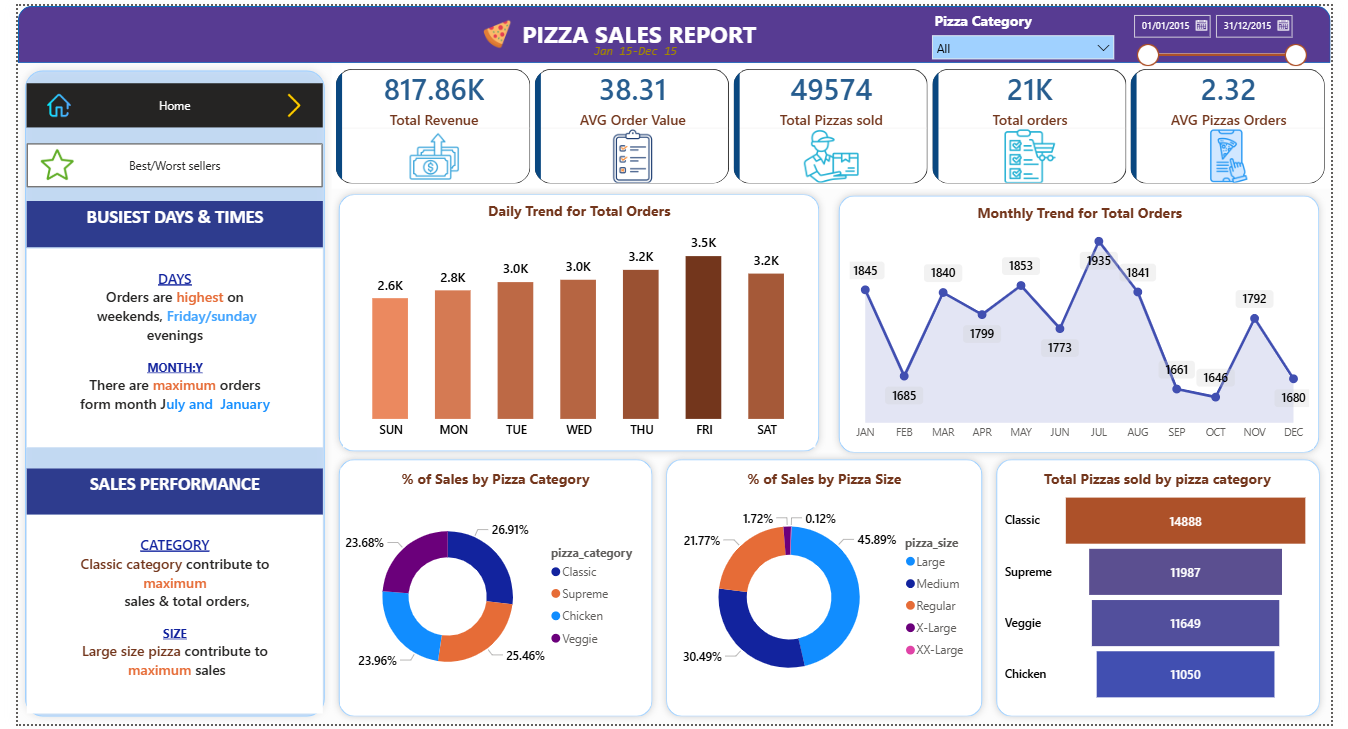

Layout of this report page (visuals, bound fields, positions):
{"tool":"powerbi","page":{"name":"Home","canvas":[1500,820],"ordinal":0},"visuals":[{"type":"shape","box":[0,65.7,358.6,754.3],"z":0},{"type":"cardVisual","fields":{"Data":["pizza_sales.Total Revenue","pizza_sales.AVG Order Value","pizza_sales.Total Pizzas sold","pizza_sales.Total orders","pizza_sales.AVG Pizzas Orders"]},"box":[358.6,67.1,1141.4,141.4],"z":1000},{"type":"shape","box":[0,0,1500,65],"z":2000},{"type":"textbox","box":[565,8.8,288.8,47.5],"z":3000},{"type":"textbox","box":[652.5,37.5,115,36.2],"z":4000},{"type":"image","box":[530,16.2,35,32.5],"z":5000},{"type":"shape","box":[358.8,207.5,565,310],"z":6000},{"type":"columnChart","title":"Daily Trend for Total Orders","fields":{"Category":["pizza_sales.Order day"],"Y":["pizza_sales.Total orders"]},"box":[371.2,222.5,540,281.2],"z":7000},{"type":"shape","box":[930,208.8,565,310],"z":8000},{"type":"areaChart","title":"Monthly Trend for Total Orders","fields":{"Category":["pizza_sales.Order Month"],"Y":["pizza_sales.Total orders"]},"box":[945,223.8,535,281.2],"z":9000},{"type":"shape","box":[358.6,510,374.3,310],"z":10000},{"type":"shape","box":[732.9,510,377.1,310],"z":11000},{"type":"shape","box":[1110,510,385.7,310],"z":12000},{"type":"donutChart","title":"% of Sales by Pizza Category","fields":{"Category":["pizza_sales.pizza_category"],"Y":["pizza_sales.Total Revenue"]},"box":[368.6,528.6,354.3,271.4],"z":13000},{"type":"donutChart","title":"% of Sales by Pizza Size","fields":{"Y":["pizza_sales.Total Revenue"],"Category":["pizza_sales.pizza_size"]},"box":[744.3,528.6,354.3,272.9],"z":14000},{"type":"funnel","title":"Total Pizzas sold by pizza category","fields":{"Category":["pizza_sales.pizza_category"],"Y":["pizza_sales.Total Pizzas sold"]},"box":[1122.9,528.6,358.6,272.9],"z":15000},{"type":"textbox","box":[10,222.9,338.6,52.9],"z":16000},{"type":"textbox","box":[10,277.1,338.6,227.1],"z":17000},{"type":"textbox","box":[10,528.6,338.6,52.9],"z":18000},{"type":"textbox","box":[10,581.4,338.6,227.1],"z":19000},{"type":"slicer","fields":{"Values":["pizza_sales.pizza_category"]},"box":[1034.3,0,228.6,65.7],"z":20000},{"type":"slicer","fields":{"Values":["pizza_sales.order_date"]},"box":[1262.9,0,218.6,72.9],"z":21000},{"type":"pageNavigator","box":[10,157.1,338.6,50],"z":22000},{"type":"pageNavigator","box":[10,88.6,338.6,50],"z":23000},{"type":"image","box":[22.9,100,48.6,27.1],"z":24000},{"type":"image","box":[295.7,100,40,27.1],"z":25000},{"type":"image","box":[22.9,162.9,44.3,37.1],"z":25001}]}

Visuals, with their boxes in screenshot pixels (x1, y1, x2, y2), scaled from the page's 1500x820 canvas onto the 1348x729 screenshot:
shape: bbox(0, 58, 322, 728)
cardVisual - pizza_sales.Total Revenue x pizza_sales.AVG Order Value: bbox(322, 60, 1347, 185)
shape: bbox(0, 0, 1347, 58)
textbox: bbox(508, 8, 767, 50)
textbox: bbox(586, 33, 690, 66)
image: bbox(476, 14, 508, 43)
shape: bbox(322, 184, 830, 460)
"Daily Trend for Total Orders" columnChart: bbox(334, 198, 819, 448)
shape: bbox(836, 186, 1344, 461)
"Monthly Trend for Total Orders" areaChart: bbox(849, 199, 1330, 449)
shape: bbox(322, 453, 659, 728)
shape: bbox(659, 453, 998, 728)
shape: bbox(998, 453, 1344, 728)
"% of Sales by Pizza Category" donutChart: bbox(331, 470, 650, 711)
"% of Sales by Pizza Size" donutChart: bbox(669, 470, 987, 713)
"Total Pizzas sold by pizza category" funnel: bbox(1009, 470, 1331, 713)
textbox: bbox(9, 198, 313, 245)
textbox: bbox(9, 246, 313, 448)
textbox: bbox(9, 470, 313, 517)
textbox: bbox(9, 517, 313, 719)
slicer - pizza_sales.pizza_category: bbox(929, 0, 1135, 58)
slicer - pizza_sales.order_date: bbox(1135, 0, 1331, 65)
pageNavigator: bbox(9, 140, 313, 184)
pageNavigator: bbox(9, 79, 313, 123)
image: bbox(21, 89, 64, 113)
image: bbox(266, 89, 302, 113)
image: bbox(21, 145, 60, 178)
